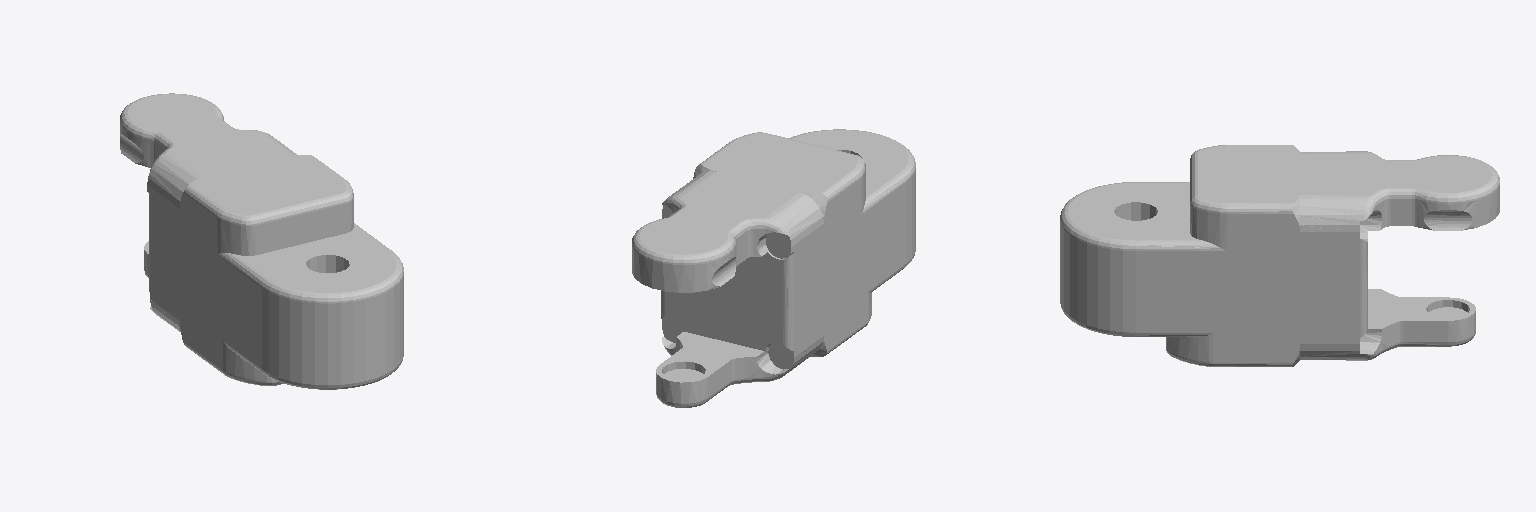
Rendered from ll_dg_3_2_c_mesh_World_mesh.obj.
3 renders of one model, left to right at view 1: azimuth 30°, elevation 25°; view 2: azimuth 150°, elevation 25°; view 3: azimuth 270°, elevation 25°, orthographic.
Bounding box in the file's own units: 0.019 × 0.0224 × 0.0548.